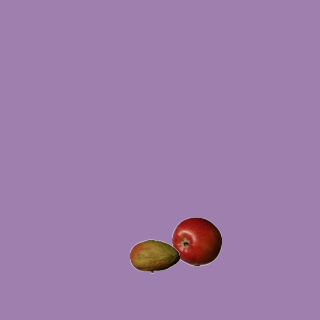Apple Braeburn: (171, 216, 221, 266)
Papaya: (129, 231, 179, 281)
